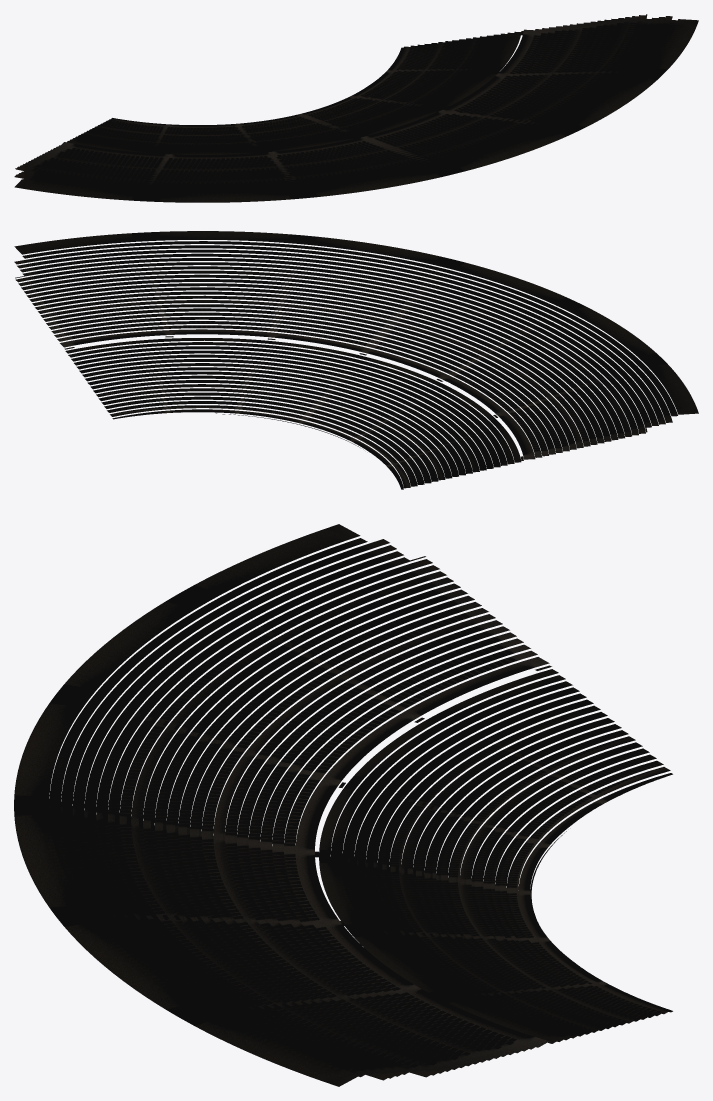
Rendered from SeatFloor.fbx.
The picture shows the model from 3 angles, top to bottom: view 1: azimuth 30°, elevation 25°; view 2: azimuth 150°, elevation 25°; view 3: azimuth 270°, elevation 25°; orthographic projection. The views are drawn at different scales.
Parts seen in each view (by area): view 1: Floor.083, Floor.082; view 2: Floor.083, Floor.082; view 3: Floor.083, Floor.082.
Part boxes in pixels (box(x1,y1,x2,y2)): Floor.083: box(14, 14, 698, 202); Floor.082: box(67, 31, 523, 154); Floor.083: box(14, 231, 698, 459); Floor.082: box(64, 336, 523, 489); Floor.083: box(14, 524, 549, 1086); Floor.082: box(315, 665, 672, 1043).
Bounding box in the file's own units: 1135 × 100 × 584.
Materials: 2 (2 with a texture image).
